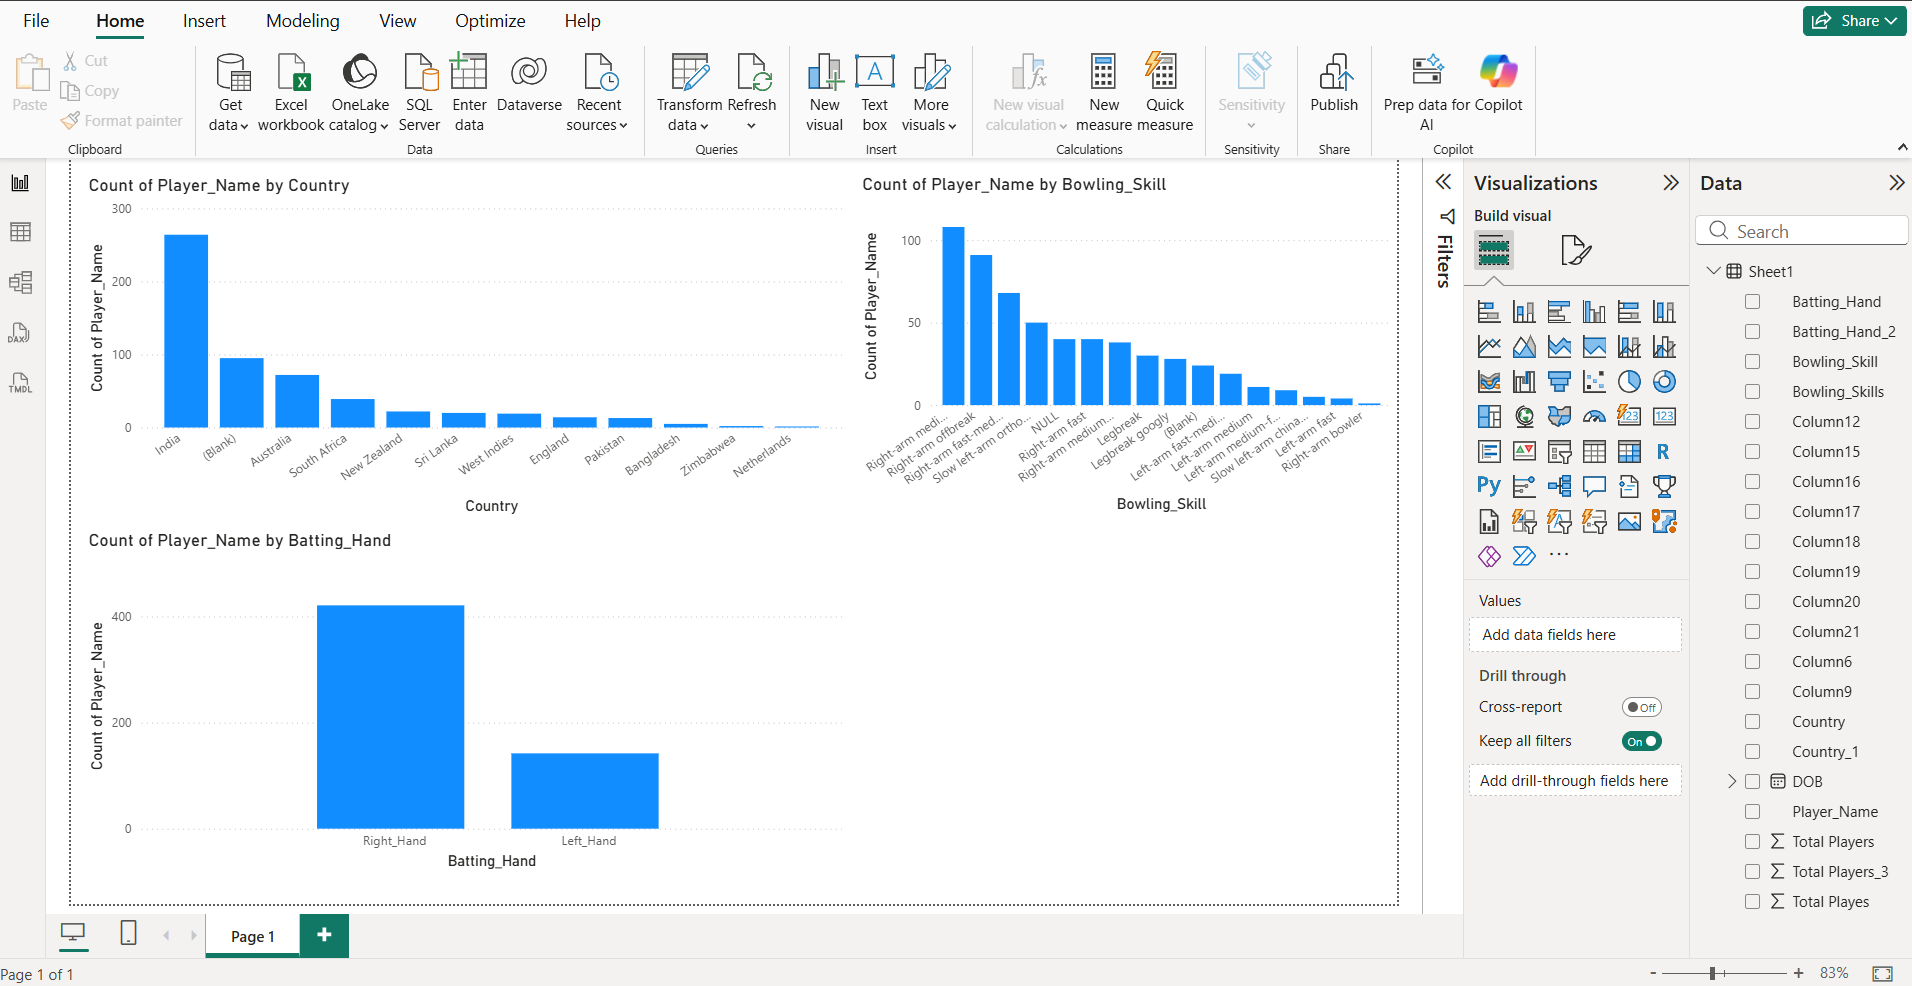

What the dashboard file says about the page in this screenshot:
{"tool":"powerbi","page":{"name":"Page 1","canvas":[1280,720],"ordinal":0},"visuals":[{"type":"columnChart","fields":{"Category":["Sheet1.Country"],"Y":["CountNonNull(Sheet1.Player_Name)"]},"box":[12.3,15.1,736.9,333.4],"z":1},{"type":"columnChart","fields":{"Y":["CountNonNull(Sheet1.Player_Name)"],"Category":["Sheet1.Batting_Hand"]},"box":[12,358,737,333],"z":2},{"type":"columnChart","fields":{"Category":["Sheet1.Bowling_Skill"],"Y":["CountNonNull(Sheet1.Player_Name)"]},"box":[759,15,521,333],"z":3}]}

Visuals, with their boxes on the page's 1280x720 design canvas (x1, y1, x2, y2). These are canvas units, not pixel positions in the 1912x986 screenshot, which may show the page scaled, cropped or inside an application window:
columnChart - Sheet1.Country x CountNonNull(Sheet1.Player_Name): 12,15,749,348
columnChart - CountNonNull(Sheet1.Player_Name) x Sheet1.Batting_Hand: 12,358,749,691
columnChart - Sheet1.Bowling_Skill x CountNonNull(Sheet1.Player_Name): 759,15,1280,348
